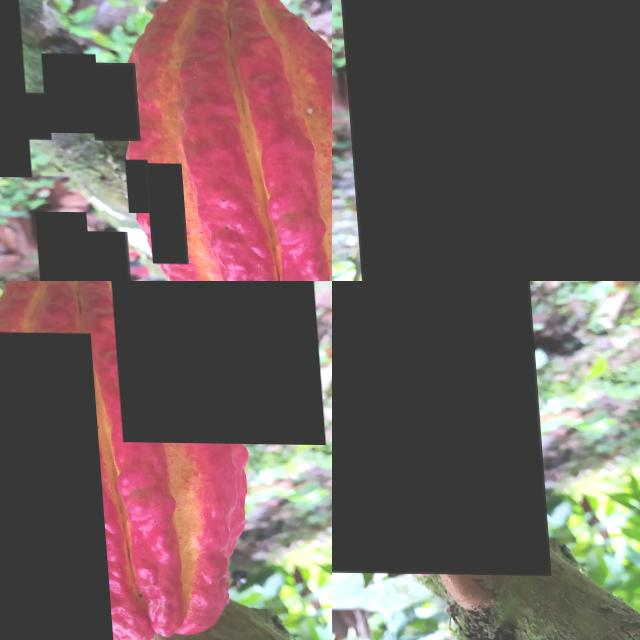Sana: (332, 0, 640, 281), (332, 281, 543, 573), (99, 281, 320, 443), (0, 329, 112, 640), (38, 53, 97, 133), (0, 0, 26, 177), (141, 162, 182, 263), (29, 211, 87, 281), (86, 62, 136, 140), (71, 230, 125, 281), (17, 92, 47, 139), (120, 159, 145, 213)
